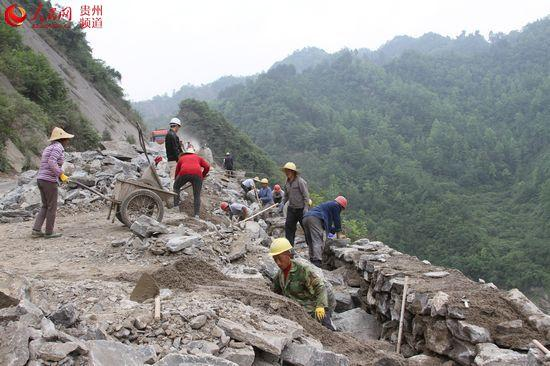helmet: (270, 238, 294, 259), (337, 197, 348, 209), (170, 118, 183, 128), (221, 203, 230, 213), (275, 185, 282, 192)
